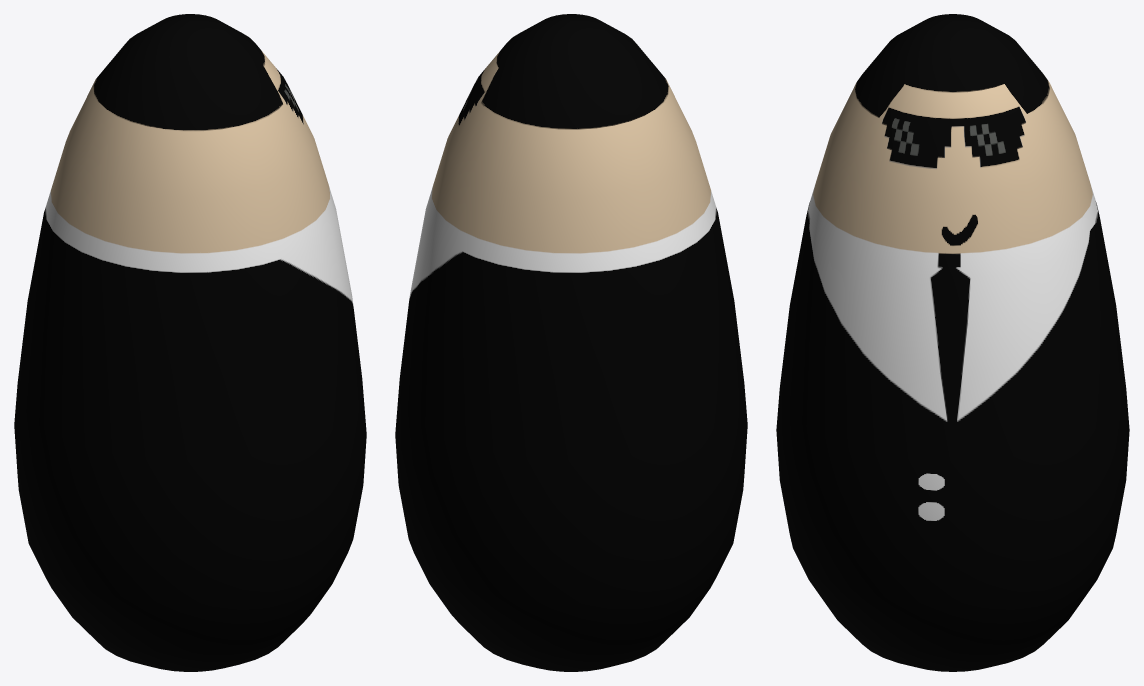
Rendered from Player.fbx.
3 views of the same model, side by side, from view 1: azimuth 30°, elevation 25°; view 2: azimuth 150°, elevation 25°; view 3: azimuth 270°, elevation 25° (orthographic).
Parts seen in each view (by area): view 1: Sphere; view 2: Sphere; view 3: Sphere.
Part boxes in pixels (box(x1,y1,x2,y2)): Sphere: box(14, 14, 366, 671); Sphere: box(395, 14, 747, 671); Sphere: box(776, 14, 1129, 671).
Size of the model in its own units: 100 by 198 by 100.
